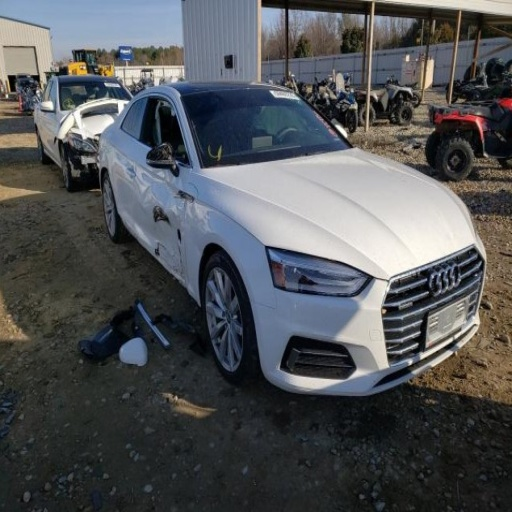dent: (134, 165, 212, 297)
scratch: (167, 247, 185, 281), (153, 207, 171, 226), (154, 242, 170, 260), (185, 181, 199, 200), (176, 229, 181, 244)
